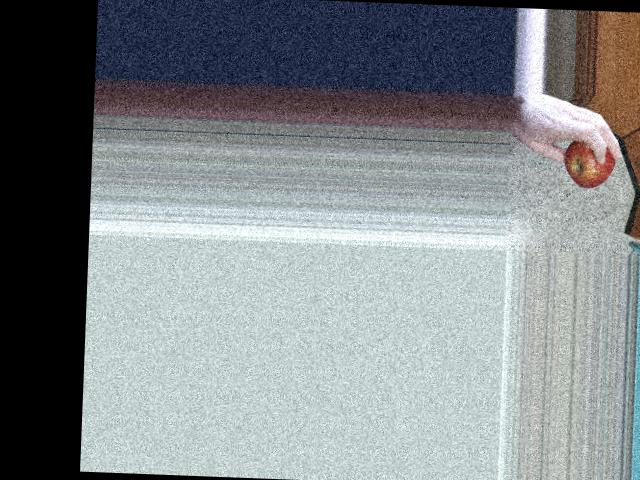apple: (560, 131, 623, 190)
